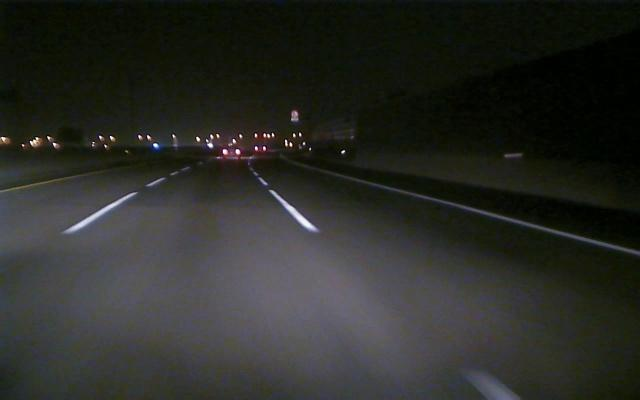lane: (270, 188, 526, 400), (327, 171, 639, 257), (59, 178, 163, 234)
